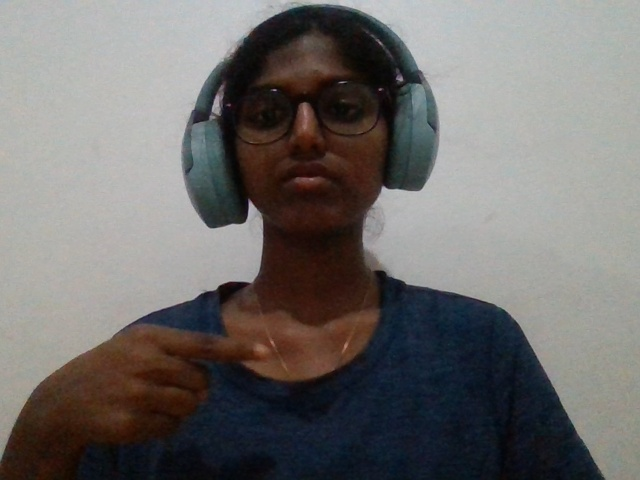Me: (10, 285, 287, 480)
